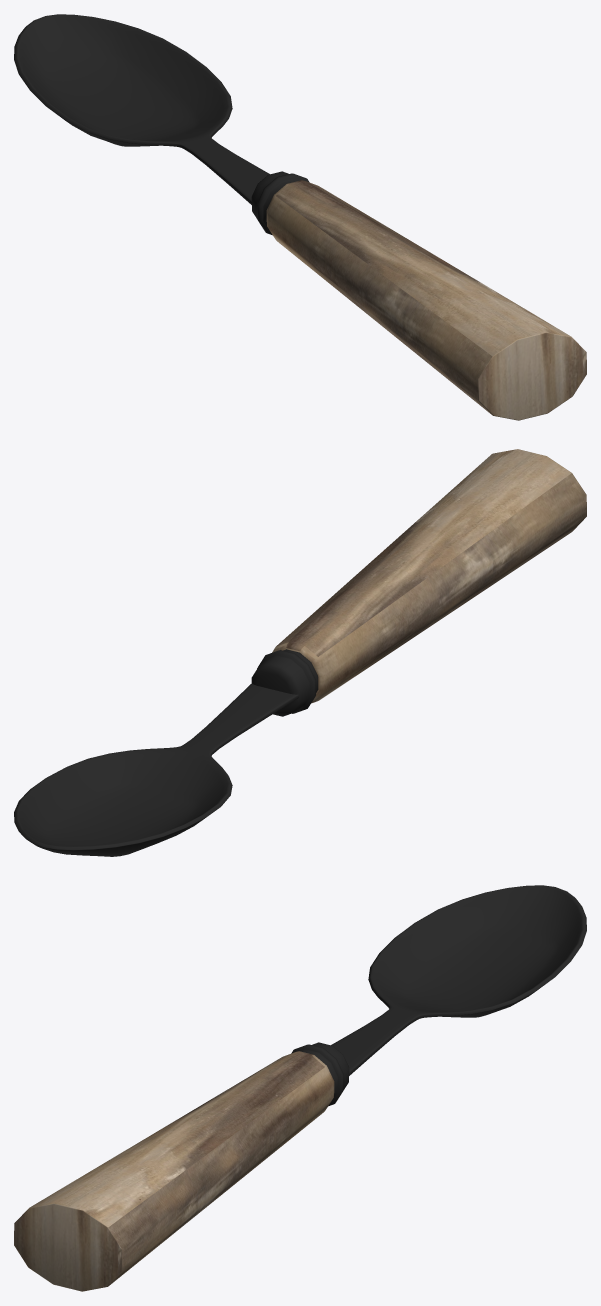
Rendered from Spoon.FBX.
3 renders of one model, top to bottom at view 1: azimuth 30°, elevation 25°; view 2: azimuth 150°, elevation 25°; view 3: azimuth 330°, elevation 25°, orthographic.
Visible parts, largest first — view 1: Spoon; view 2: Spoon; view 3: Spoon.
Boxes of the visible parts, x1,y1,x2,y2 form: Spoon: [14, 14, 586, 420]; Spoon: [14, 449, 586, 856]; Spoon: [14, 885, 586, 1291].
Size of the model in its own units: 0.335 by 0.1614 by 1.77.
2 materials, 1 textured.
